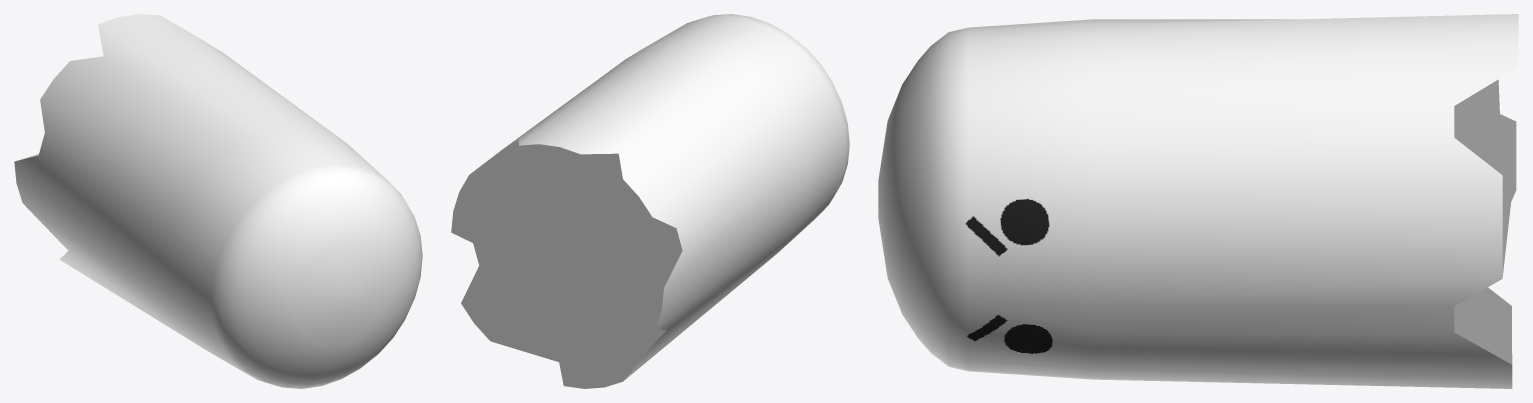
File: enemy.fbx
3 views of the same model, side by side, from view 1: azimuth 30°, elevation 25°; view 2: azimuth 150°, elevation 25°; view 3: azimuth 270°, elevation 25° (orthographic). The views are drawn at different scales.
Visible parts, largest first — view 1: Cylinder; view 2: Cylinder; view 3: Cylinder.
Boxes of the visible parts, x1,y1,x2,y2 form: Cylinder: (14,14,422,388); Cylinder: (451,14,849,388); Cylinder: (878,14,1518,388).
Size of the model in its own units: 1.54 by 1.62 by 2.68.
1 material, 1 textured.
